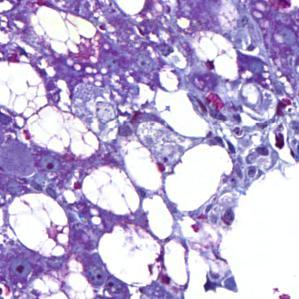ballooning: (22, 103, 102, 163), (7, 190, 74, 260), (99, 221, 166, 289), (177, 26, 246, 89), (29, 5, 102, 62), (77, 163, 145, 220), (3, 60, 50, 118)
